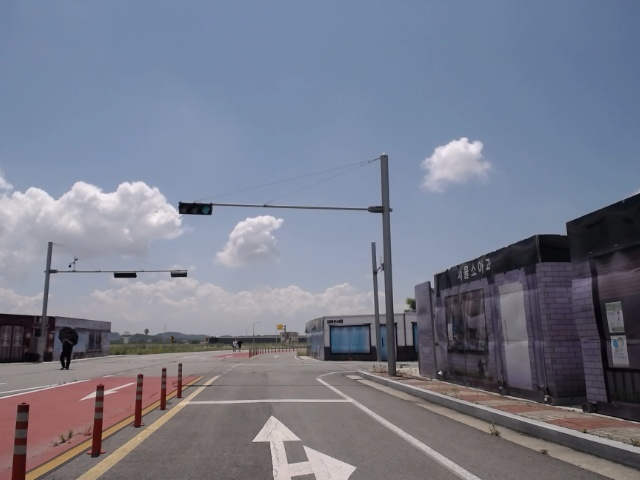green_3: (180, 204, 212, 214)
